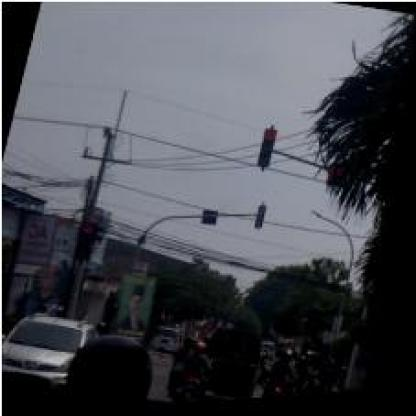red: (256, 131, 278, 173), (75, 222, 97, 262)
